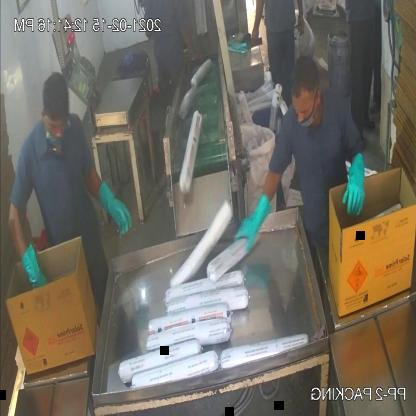glove: (337, 140, 376, 224), (233, 186, 274, 260), (95, 176, 136, 244)
no_glove: (175, 16, 208, 73), (247, 1, 266, 52)
